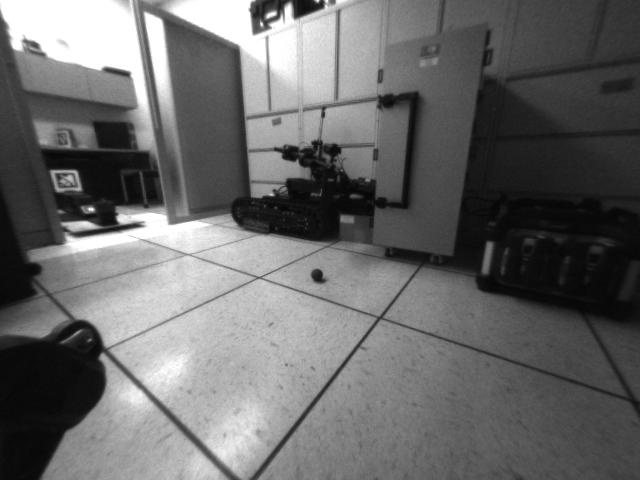dogtoy: (308, 265, 329, 285)
